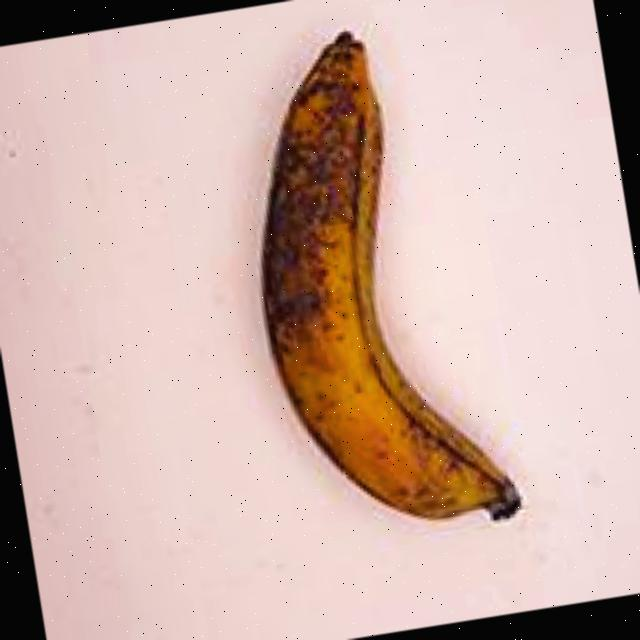Overripe: (176, 0, 555, 577)
